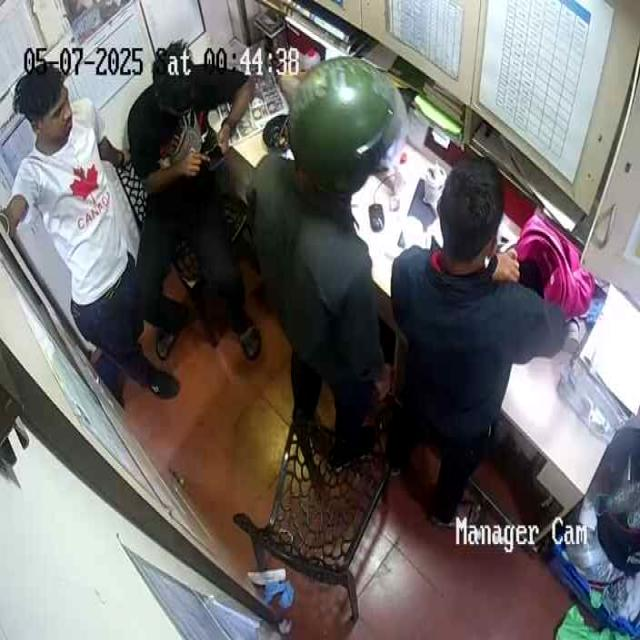helmet: (291, 56, 407, 192)
no_helmet: (437, 158, 503, 272), (12, 62, 73, 156)
